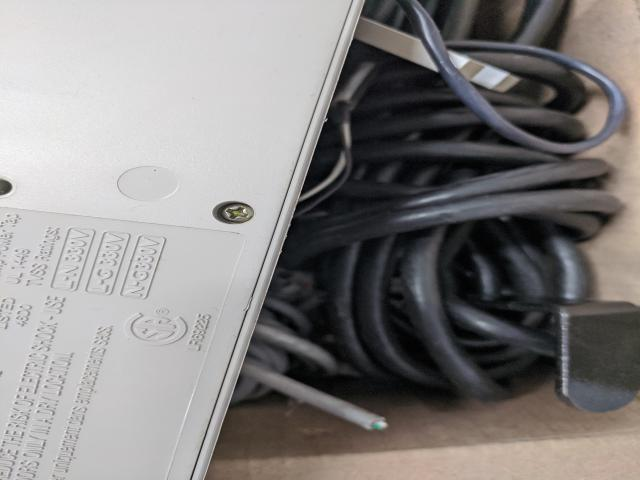CRS: (214, 202, 254, 222)
